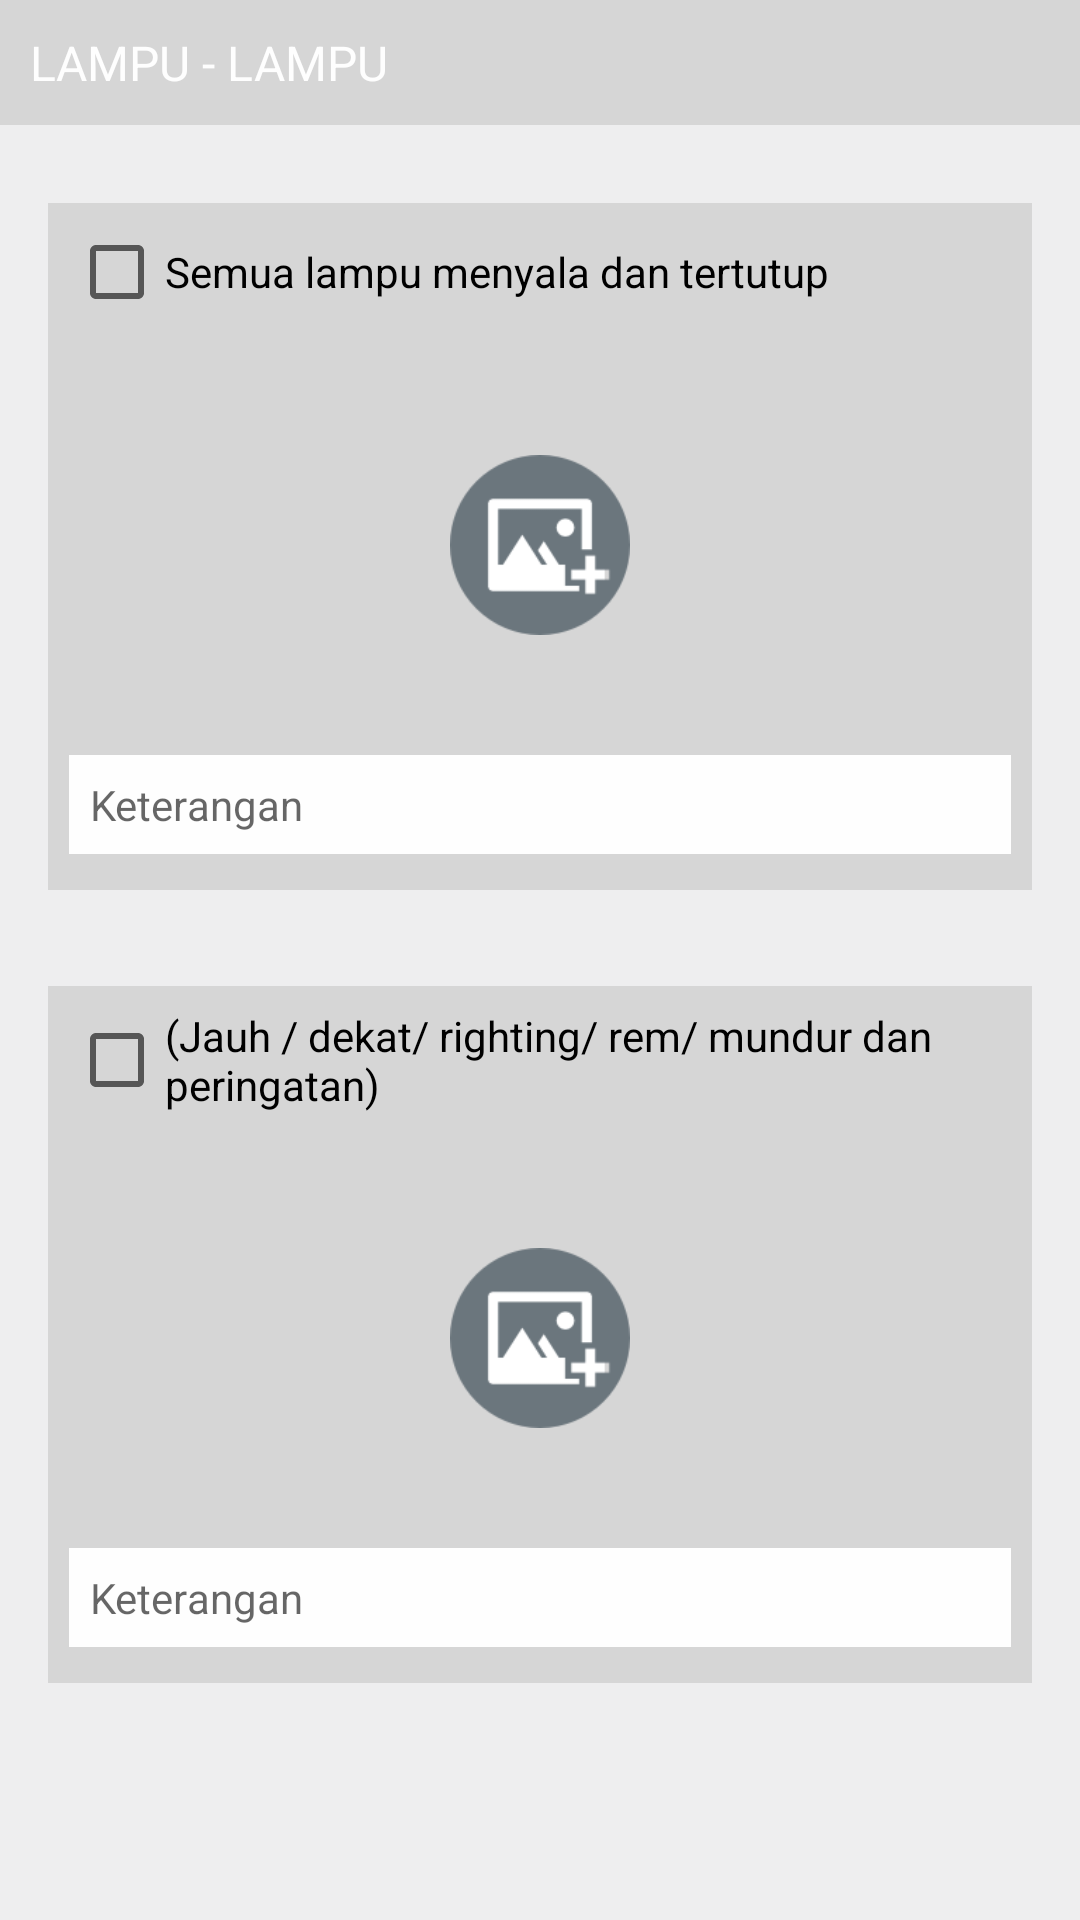

Where to tap for icons on this 1080 x 1920 app screen, as (x=x, y=y):
add: (x=540, y=545), (x=540, y=1338)
